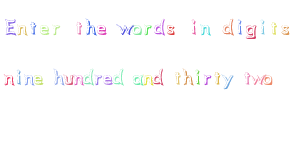E: (3, 13, 17, 38)
a: (131, 70, 144, 90)
d: (113, 66, 128, 88), (152, 67, 168, 87), (221, 17, 236, 38), (153, 17, 166, 39), (83, 67, 94, 88)
e: (50, 64, 64, 87), (96, 20, 109, 37), (33, 73, 46, 87), (39, 24, 51, 39), (103, 72, 113, 88)
g: (243, 21, 259, 43)
h: (86, 14, 97, 39), (183, 67, 194, 88)
i: (187, 14, 199, 40), (234, 20, 246, 37), (194, 69, 204, 89), (258, 18, 268, 36), (15, 68, 23, 87)
n: (142, 68, 154, 90), (17, 20, 29, 38), (3, 71, 15, 88), (200, 23, 214, 37), (74, 69, 84, 88), (23, 70, 34, 87)
o: (131, 20, 144, 41), (262, 72, 275, 87)
r: (52, 18, 64, 41), (201, 70, 213, 87), (143, 18, 153, 38), (95, 70, 103, 87)
s: (280, 20, 292, 38), (167, 21, 178, 39)
t: (72, 18, 84, 39), (29, 15, 39, 40), (212, 67, 221, 88), (268, 21, 280, 35), (173, 69, 182, 86), (242, 68, 250, 86)
u: (64, 72, 75, 88)
w: (116, 19, 132, 39), (251, 71, 264, 88)
y: (221, 73, 236, 91)
